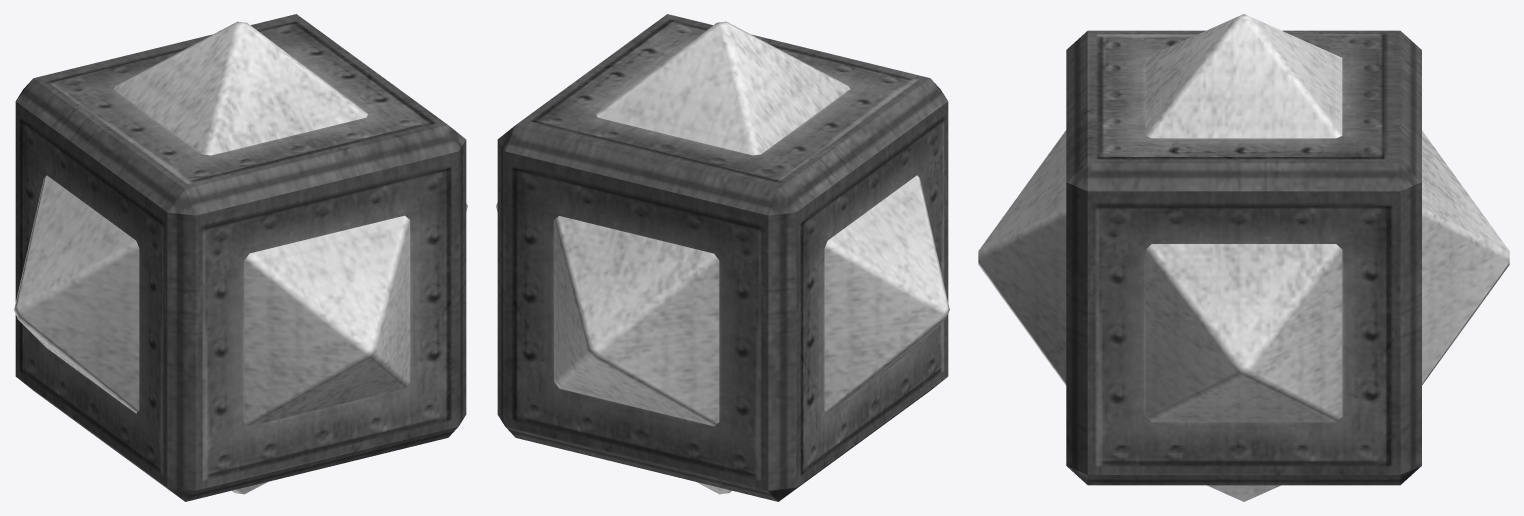
The model's file is llave.fbx.
3 views of the same model, side by side, from view 1: azimuth 30°, elevation 25°; view 2: azimuth 150°, elevation 25°; view 3: azimuth 270°, elevation 25° (orthographic). The views are drawn at different scales.
Visible parts, largest first — view 1: llave; view 2: llave; view 3: llave.
Boxes of the visible parts, x1,y1,x2,y2 form: llave: [14, 14, 467, 501]; llave: [496, 14, 949, 501]; llave: [978, 14, 1509, 501].
Bounding box in the file's own units: 1.5 × 1.5 × 1.5.
